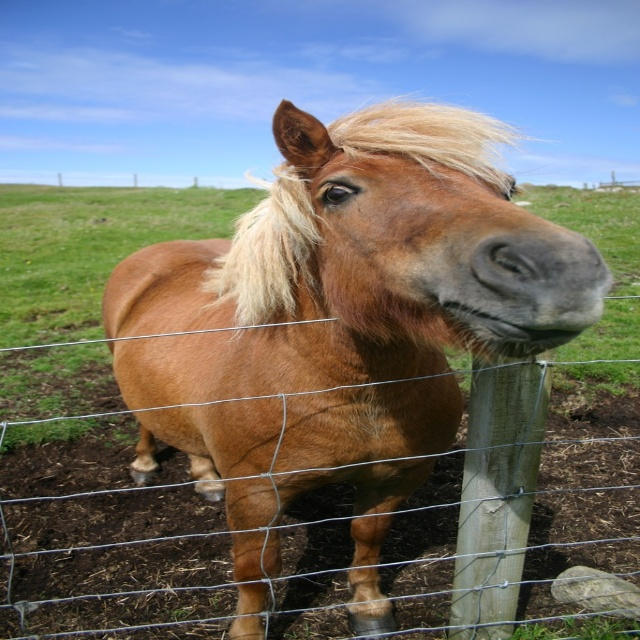Horse: (100, 90, 613, 640)
